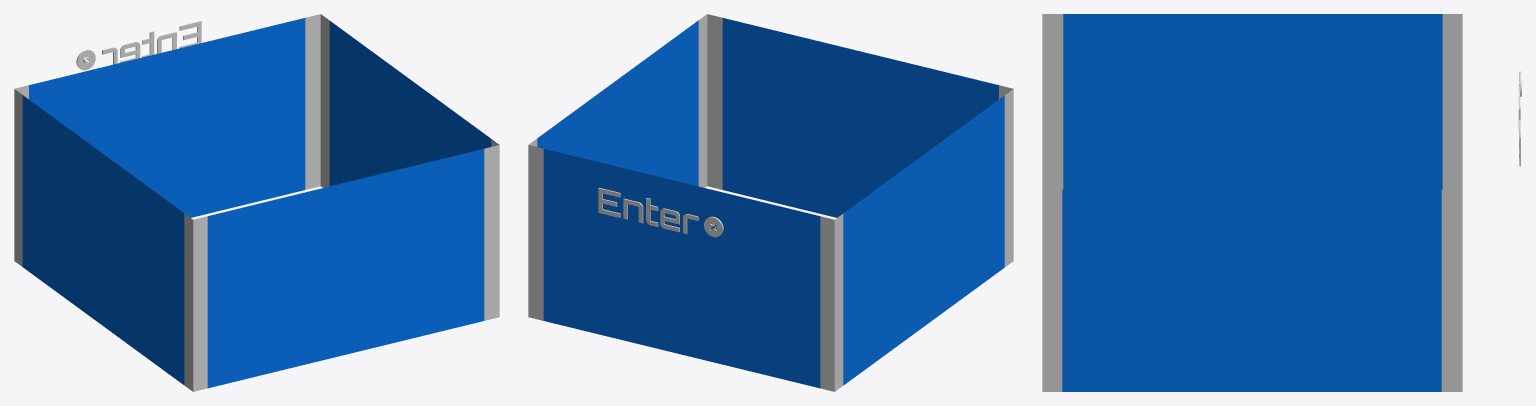
File: mustangEffects.glb
The picture shows the model from 3 angles, left to right: view 1: azimuth 30°, elevation 25°; view 2: azimuth 150°, elevation 25°; view 3: azimuth 270°, elevation 25°; orthographic projection. The views are drawn at different scales.
Parts seen in each view (by area): view 1: cubeFaces.002, cubeCorners.002, mustangEnter; view 2: cubeFaces.002, cubeCorners.002, mustangEnter; view 3: cubeFaces.002, cubeCorners.002.
Part boxes in pixels (<box>): cubeFaces.002: <box>22,18,491,388</box>; cubeCorners.002: <box>14,14,499,391</box>; mustangEnter: <box>76,21,201,70</box>; cubeFaces.002: <box>537,18,1004,388</box>; cubeCorners.002: <box>528,14,1013,391</box>; mustangEnter: <box>598,188,723,237</box>; cubeFaces.002: <box>1062,14,1442,391</box>; cubeCorners.002: <box>1042,14,1462,391</box>.
Bounding box in the file's own units: 84.32 × 45.28 × 97.24.
